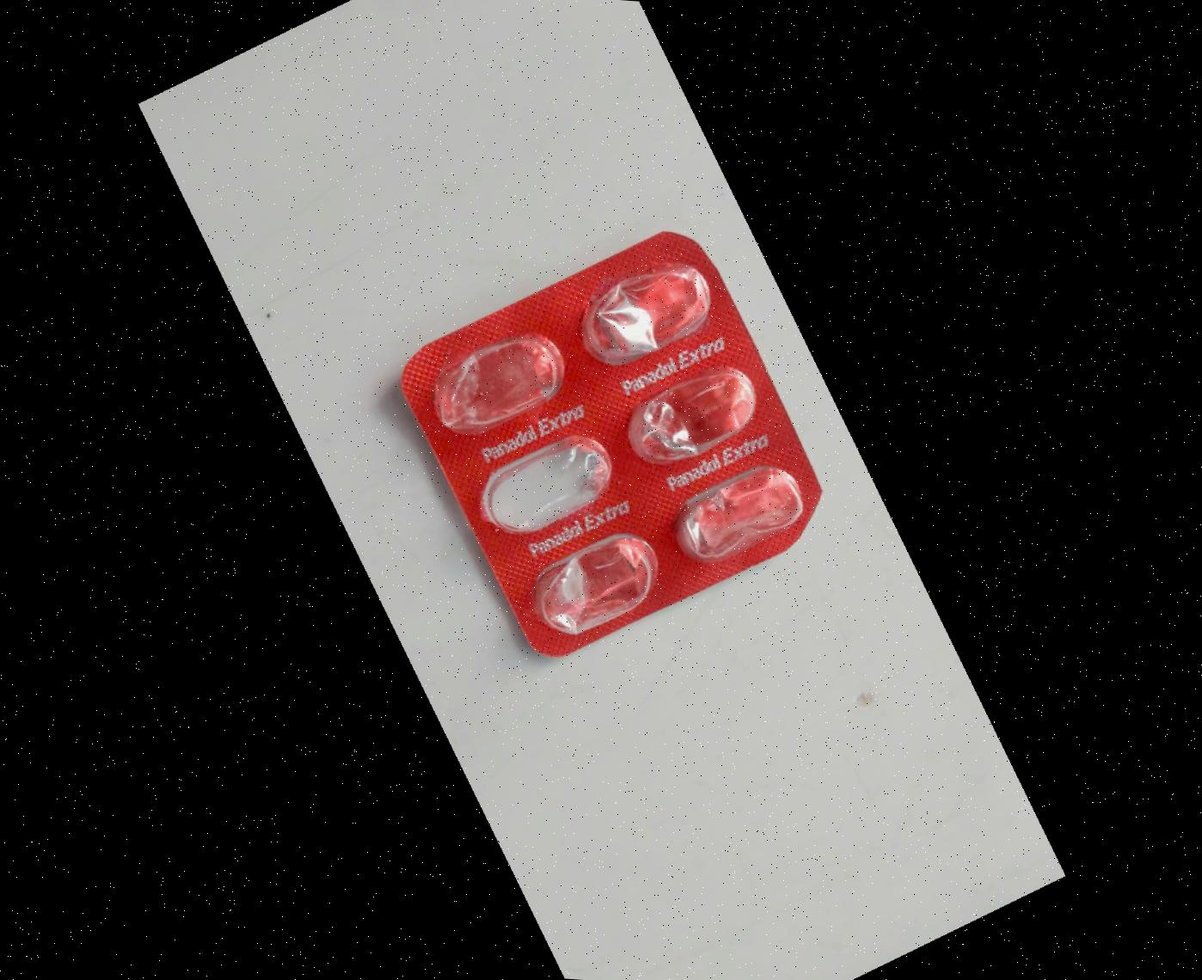Empty: (512, 518, 674, 653), (464, 418, 626, 553), (563, 247, 725, 382), (656, 448, 817, 583), (416, 317, 577, 452), (611, 351, 773, 485)
